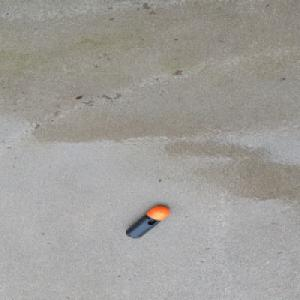PlasticPart: (123, 205, 170, 239)
